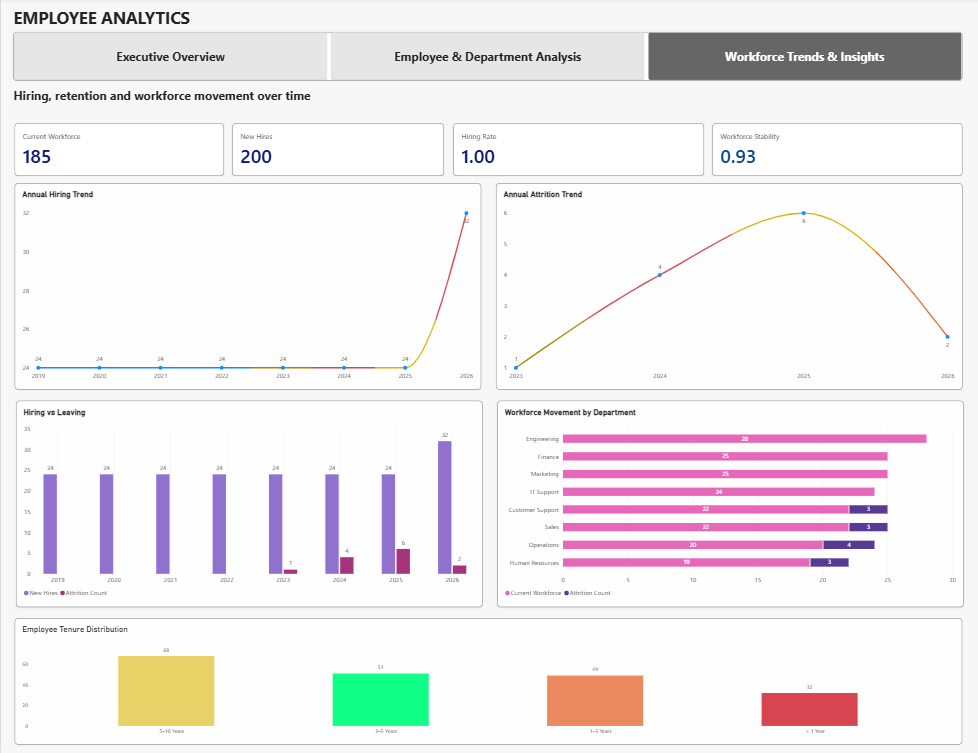

Layout of this report page (visuals, bound fields, positions):
{"tool":"powerbi","page":{"name":"Workforce Trends & Insights","canvas":[2200,1700],"ordinal":2},"visuals":[{"type":"textbox","box":[28.1,19.7,500,60],"z":0},{"type":"cardVisual","fields":{"Data":["Employees_Cleaned.Current Workforce"]},"box":[30.9,283.4,470.5,118.1],"z":0,"group":"g1"},{"type":"group","id":"g1","title":"Group 2","box":[30.9,283.4,1548.8,118.1],"z":0,"group":"g2"},{"type":"lineChart","title":"Annual Hiring Trend","fields":{"Category":["DateTable.Year"],"Y":["Employees_Cleaned.New Hires"]},"box":[30.9,418.8,1048.7,463.9],"z":0,"group":"g4"},{"type":"clusteredColumnChart","title":"Hiring vs Leaving","fields":{"Category":["DateTable.Year"],"Y":["Employees_Cleaned.New Hires","Employees_Cleaned.Attrition Count"]},"box":[32.6,907.4,1048.7,463.9],"z":0,"group":"g3"},{"type":"group","id":"g2","title":"Group 3","box":[30.9,283.4,2130.6,118.1],"z":1000},{"type":"cardVisual","fields":{"Data":["Employees_Cleaned.New Hires"]},"box":[521.1,283.4,475.8,118.1],"z":1000,"group":"g1"},{"type":"cardVisual","fields":{"Data":["Employees_Cleaned.Workforce Stability"]},"box":[1599.4,283.4,562.1,118.1],"z":1000,"group":"g2"},{"type":"lineChart","title":"Annual Attrition Trend","fields":{"Category":["DateTable.Year"],"Y":["Employees_Cleaned.Attrition Count"]},"box":[1112.8,418.8,1048.7,463.9],"z":1000,"group":"g4"},{"type":"barChart","title":"Workforce Movement by Department","fields":{"Category":["Employees_Cleaned.Department"],"Y":["Employees_Cleaned.Current Workforce","Employees_Cleaned.Attrition Count"]},"box":[1114.4,907.7,1048.7,463.9],"z":1000,"group":"g3"},{"type":"textbox","box":[28.1,202.4,687.2,59.8],"z":2000},{"type":"cardVisual","fields":{"Data":["Employees_Cleaned.Hiring Rate"]},"box":[1016.6,283.4,563.1,118.1],"z":2000,"group":"g1"},{"type":"group","id":"g3","title":"Group 4","box":[32.6,907.4,2128.8,464.2],"z":2000,"group":"g4"},{"type":"clusteredColumnChart","title":"Employee Tenure Distribution","fields":{"Category":["Employees_Cleaned.Tenure Band"],"Y":["Employees_Cleaned.Total Employees"]},"box":[30.9,1397,2130.6,283.9],"z":3000},{"type":"group","id":"g4","title":"Group 5","box":[30.9,418.8,2130.6,952.9],"z":4000},{"type":"pageNavigator","box":[28.1,78.7,2133.4,109.6],"z":5000}]}

Visuals, with their boxes in screenshot pixels (x1, y1, x2, y2), scaled from the page's 2200x1700 canvas onto the 978x753 screenshot:
textbox: bbox(12, 9, 235, 35)
cardVisual - Employees_Cleaned.Current Workforce: bbox(14, 126, 223, 178)
"Group 2" group: bbox(14, 126, 702, 178)
"Annual Hiring Trend" lineChart: bbox(14, 186, 480, 391)
"Hiring vs Leaving" clusteredColumnChart: bbox(14, 402, 481, 607)
"Group 3" group: bbox(14, 126, 961, 178)
cardVisual - Employees_Cleaned.New Hires: bbox(232, 126, 443, 178)
cardVisual - Employees_Cleaned.Workforce Stability: bbox(711, 126, 961, 178)
"Annual Attrition Trend" lineChart: bbox(495, 186, 961, 391)
"Workforce Movement by Department" barChart: bbox(495, 402, 962, 608)
textbox: bbox(12, 90, 318, 116)
cardVisual - Employees_Cleaned.Hiring Rate: bbox(452, 126, 702, 178)
"Group 4" group: bbox(14, 402, 961, 608)
"Employee Tenure Distribution" clusteredColumnChart: bbox(14, 619, 961, 745)
"Group 5" group: bbox(14, 186, 961, 608)
pageNavigator: bbox(12, 35, 961, 83)
